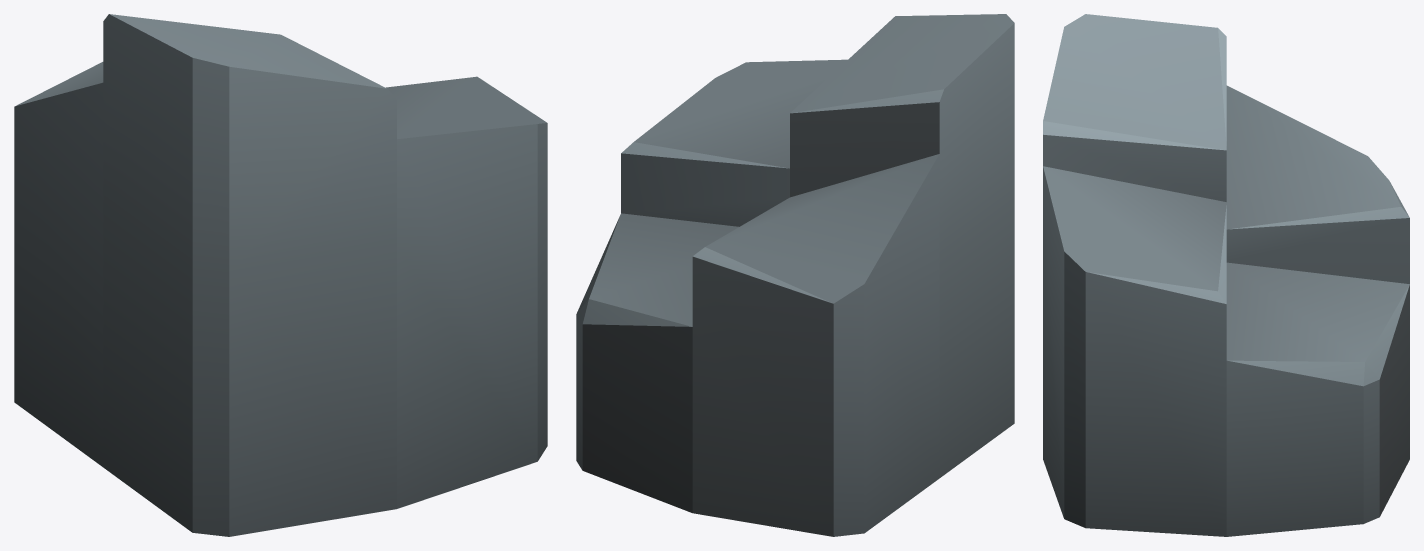
Rendered from Rock03 4.fbx.
The picture shows the model from 3 angles, left to right: view 1: azimuth 30°, elevation 25°; view 2: azimuth 150°, elevation 25°; view 3: azimuth 270°, elevation 25°; orthographic projection. The views are drawn at different scales.
Visible parts, largest first — view 1: Cube.020; view 2: Cube.020; view 3: Cube.020.
Boxes of the visible parts, x1,y1,x2,y2 form: Cube.020: (14,14,547,536); Cube.020: (576,14,1014,536); Cube.020: (1043,14,1409,536).
Bounding box in the file's own units: 426 × 511 × 451.
